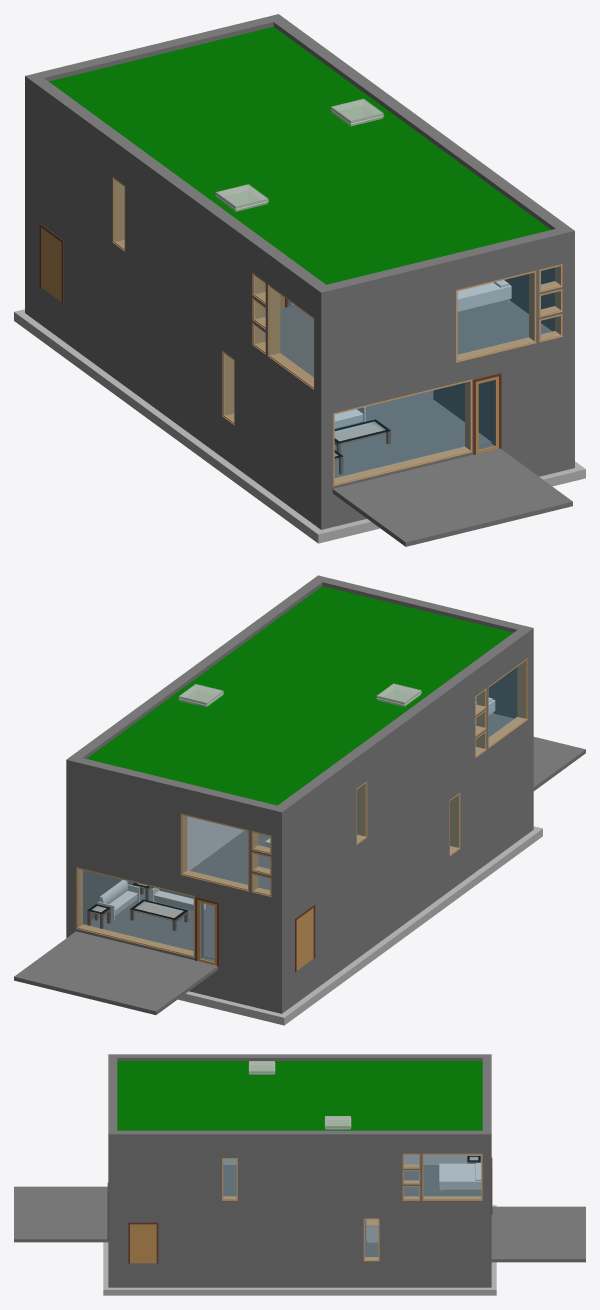
Rendered from duplex.dae.
3 renders of one model, top to bottom at view 1: azimuth 30°, elevation 25°; view 2: azimuth 150°, elevation 25°; view 3: azimuth 270°, elevation 25°, orthographic. The views are drawn at different scales.
Parts seen in each view (by area): view 1: 22492_BasicRoofLiveRoofoverWoodJoistFlatRoof184483, 4087_BasicWallExteriorBrickonBlock138310, 5598_BasicWallExteriorBrickonBlock143590, 5548_BasicWallExteriorBrickonBlock143534, 37864_Floor150mmExteriorSlabonGrade216552, 4043_BasicWallExteriorBrickonBlock138237, 4918_BasicWallFoundationConcrete417mm140602, 6531_M_Fixed4835mmx2420mm4835mmx2420mm146016, 22798_BasicWallExteriorBrickonBlock185101, 21401_FloorFinishFloorWood170352, 22753_BasicWallExteriorBrickonBlock185064, 7795_M_Fixed2800mmx2410mm2800mmx2410mm149278 (+19 smaller); view 2: 22492_BasicRoofLiveRoofoverWoodJoistFlatRoof184483, 4087_BasicWallExteriorBrickonBlock138310, 5598_BasicWallExteriorBrickonBlock143590, 5448_BasicWallExteriorBrickonBlock143410, 37777_Floor150mmExteriorSlabonGrade216507, 3797_BasicWallExteriorBrickonBlock138062, 4918_BasicWallFoundationConcrete417mm140602, 6426_M_Fixed4835mmx2420mm4835mmx2420mm145788, 22798_BasicWallExteriorBrickonBlock185101, 22663_BasicWallExteriorBrickonBlock184944, 7190_M_Fixed2800mmx2410mm2800mmx2410mm147686, 23408_WallFoundationBearingFooting900x300186612 (+20 smaller); view 3: 22492_BasicRoofLiveRoofoverWoodJoistFlatRoof184483, 3999_BasicWallExteriorBrickonBlock138157, 5498_BasicWallExteriorBrickonBlock143478, 4818_BasicWallFoundationConcrete417mm140520, 22708_BasicWallExteriorBrickonBlock185014, 37777_Floor150mmExteriorSlabonGrade216507, 37864_Floor150mmExteriorSlabonGrade216552, 23286_WallFoundationBearingFooting900x300186596, 22188_M_Fixed2800mmx2410mm2800mmx2410mm181096, 22798_BasicWallExteriorBrickonBlock185101, 6652_M_SingleFlush1250mmx2010mm1250mmx2010mm146596, 20903_FloorFinishFloorWood169188 (+10 smaller).
Part boxes in pixels (left/top/right/bottom): 22492_BasicRoofLiveRoofoverWoodJoistFlatRoof184483: left=49, top=26, right=550, bottom=284; 4087_BasicWallExteriorBrickonBlock138310: left=32, top=187, right=314, bottom=486; 5598_BasicWallExteriorBrickonBlock143590: left=25, top=94, right=321, bottom=398; 5548_BasicWallExteriorBrickonBlock143534: left=321, top=249, right=574, bottom=398; 37864_Floor150mmExteriorSlabonGrade216552: left=332, top=448, right=572, bottom=546; 4043_BasicWallExteriorBrickonBlock138237: left=314, top=340, right=562, bottom=491; 4918_BasicWallFoundationConcrete417mm140602: left=32, top=281, right=314, bottom=524; 6531_M_Fixed4835mmx2420mm4835mmx2420mm146016: left=333, top=379, right=472, bottom=486; 22798_BasicWallExteriorBrickonBlock185101: left=32, top=78, right=325, bottom=305; 21401_FloorFinishFloorWood170352: left=334, top=390, right=491, bottom=477; 22753_BasicWallExteriorBrickonBlock185064: left=314, top=229, right=562, bottom=310; 7795_M_Fixed2800mmx2410mm2800mmx2410mm149278: left=456, top=270, right=536, bottom=362; 22492_BasicRoofLiveRoofoverWoodJoistFlatRoof184483: left=86, top=586, right=513, bottom=805; 4087_BasicWallExteriorBrickonBlock138310: left=287, top=722, right=527, bottom=977; 5598_BasicWallExteriorBrickonBlock143590: left=282, top=644, right=533, bottom=901; 5448_BasicWallExteriorBrickonBlock143410: left=66, top=775, right=281, bottom=902; 37777_Floor150mmExteriorSlabonGrade216507: left=14, top=931, right=218, bottom=1014; 3797_BasicWallExteriorBrickonBlock138062: left=66, top=850, right=287, bottom=981; 4918_BasicWallFoundationConcrete417mm140602: left=287, top=802, right=527, bottom=1009; 6426_M_Fixed4835mmx2420mm4835mmx2420mm145788: left=76, top=867, right=194, bottom=957; 22798_BasicWallExteriorBrickonBlock185101: left=278, top=630, right=527, bottom=823; 22663_BasicWallExteriorBrickonBlock184944: left=66, top=755, right=287, bottom=827; 7190_M_Fixed2800mmx2410mm2800mmx2410mm147686: left=180, top=813, right=249, bottom=891; 23408_WallFoundationBearingFooting900x300186612: left=262, top=836, right=530, bottom=1025; 22492_BasicRoofLiveRoofoverWoodJoistFlatRoof184483: left=117, top=1061, right=482, bottom=1130; 3999_BasicWallExteriorBrickonBlock138157: left=108, top=1202, right=482, bottom=1263; 5498_BasicWallExteriorBrickonBlock143478: left=108, top=1146, right=491, bottom=1202; 4818_BasicWallFoundationConcrete417mm140520: left=108, top=1263, right=482, bottom=1287; 22708_BasicWallExteriorBrickonBlock185014: left=108, top=1130, right=482, bottom=1146; 37777_Floor150mmExteriorSlabonGrade216507: left=491, top=1206, right=585, bottom=1262; 37864_Floor150mmExteriorSlabonGrade216552: left=14, top=1186, right=108, bottom=1242; 23286_WallFoundationBearingFooting900x300186596: left=103, top=1281, right=496, bottom=1295; 22188_M_Fixed2800mmx2410mm2800mmx2410mm181096: left=422, top=1153, right=482, bottom=1200; 22798_BasicWallExteriorBrickonBlock185101: left=117, top=1054, right=482, bottom=1060; 6652_M_SingleFlush1250mmx2010mm1250mmx2010mm146596: left=128, top=1222, right=158, bottom=1263; 20903_FloorFinishFloorWood169188: left=404, top=1165, right=481, bottom=1196.
Bounding box in the file's own units: 9.28 × 26.57 × 8.18.
